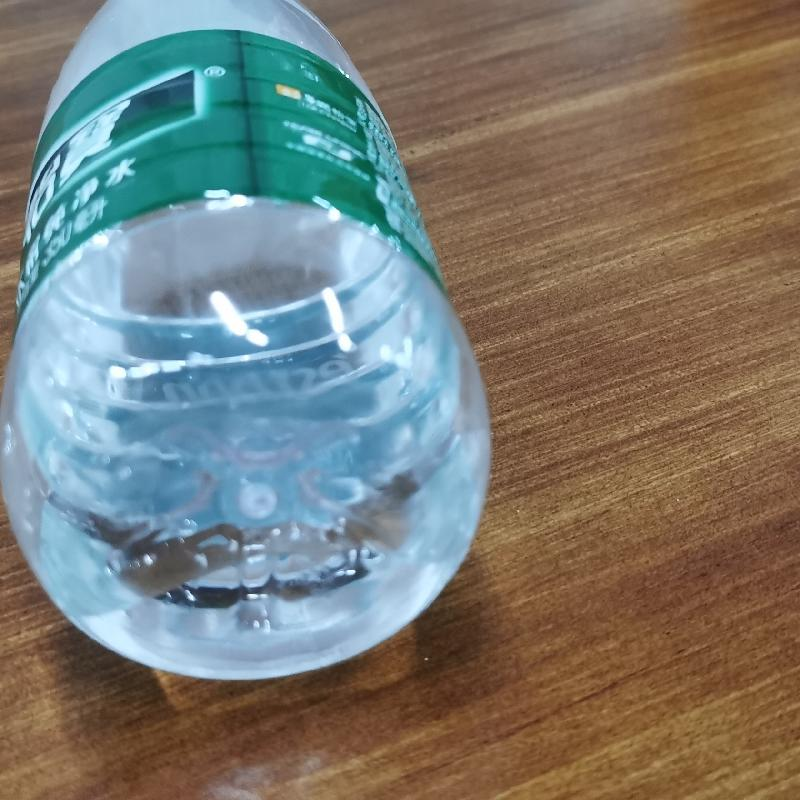bottles: (1, 4, 495, 680)
